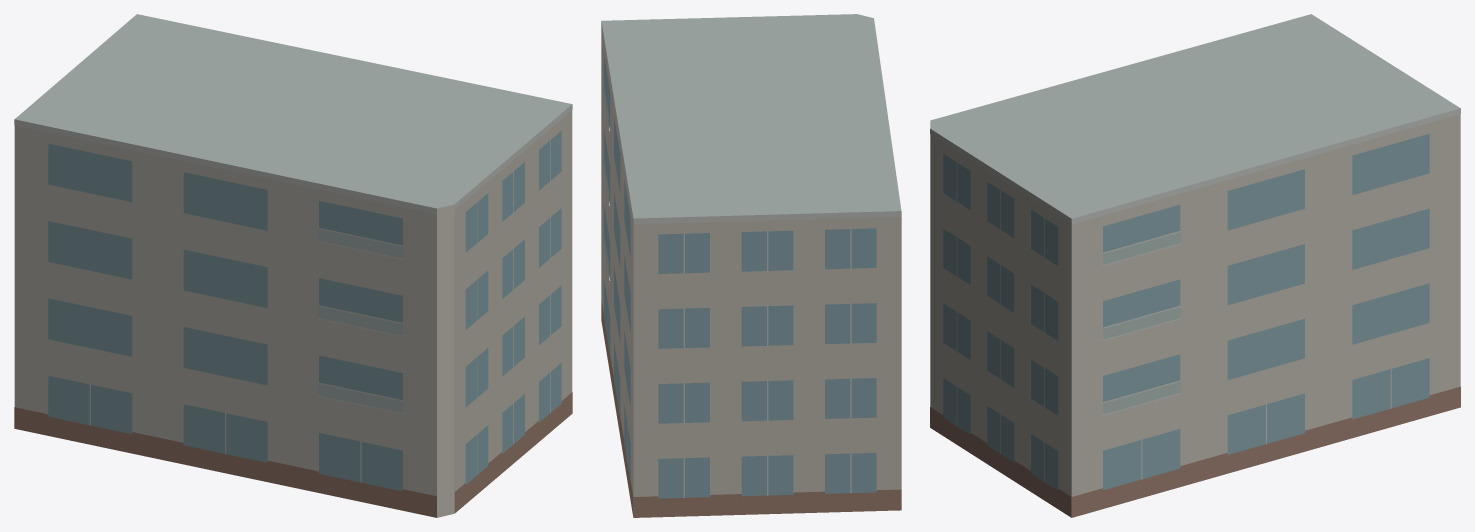
Rendered from survey-upis-32965663.glb.
3 views of the same model, side by side, from view 1: azimuth 30°, elevation 25°; view 2: azimuth 150°, elevation 25°; view 3: azimuth 270°, elevation 25° (orthographic). The views are drawn at different scales.
Visible parts, largest first — view 1: survey-upis-32965663.tmp; view 2: survey-upis-32965663.tmp; view 3: survey-upis-32965663.tmp.
Boxes of the visible parts, x1,y1,x2,y2 form: survey-upis-32965663.tmp: (14,14,572,517); survey-upis-32965663.tmp: (601,14,901,517); survey-upis-32965663.tmp: (930,14,1460,517).
Bounding box in the file's own units: 18.8 × 12.8 × 20.59.
